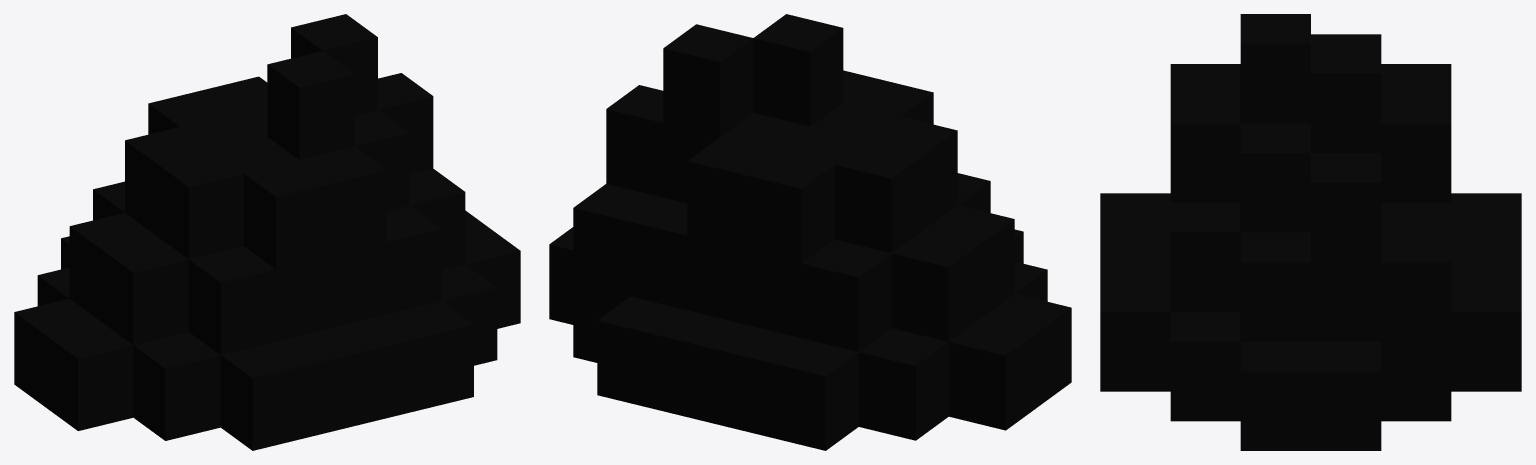
The model's file is IceLedge.obj.
3 views of the same model, side by side, from view 1: azimuth 30°, elevation 25°; view 2: azimuth 150°, elevation 25°; view 3: azimuth 270°, elevation 25° (orthographic). The views are drawn at different scales.
Parts seen in each view (by area): view 1: IceLedge; view 2: IceLedge; view 3: IceLedge.
Part boxes in pixels (x1,y1,x2,y2): IceLedge: [14, 14, 520, 450]; IceLedge: [549, 14, 1071, 450]; IceLedge: [1100, 14, 1521, 450].
Bounding box in the file's own units: 16 × 10 × 12.
